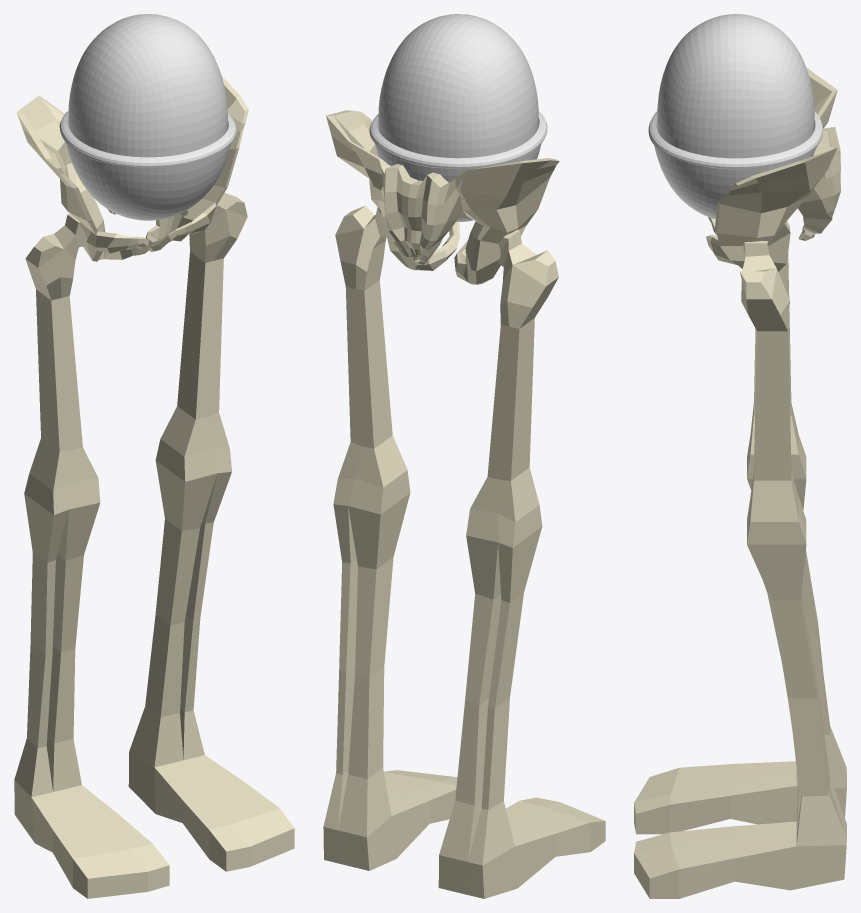
The model's file is skeleton alien separated.fbx.
3 views of the same model, side by side, from view 1: azimuth 30°, elevation 25°; view 2: azimuth 150°, elevation 25°; view 3: azimuth 270°, elevation 25° (orthographic).
Visible parts, largest first — view 1: LEG LEFT, LEG RIGHT, Cube, Cube.001, PELVIS; view 2: LEG RIGHT, LEG LEFT, Cube, PELVIS, Cube.001; view 3: LEG LEFT, Cube, LEG RIGHT, PELVIS, Cube.001.
Part boxes in pixels (x1,y1,x2,y2): LEG LEFT: (128,192,294,871); LEG RIGHT: (14,213,169,898); Cube: (68,14,227,157); Cube.001: (59,111,236,220); PELVIS: (16,76,248,261); LEG RIGHT: (438,229,605,898); LEG LEFT: (323,206,457,870); Cube: (378,14,538,158); PELVIS: (326,110,559,284); Cube.001: (369,111,547,221); LEG LEFT: (634,240,846,898); Cube: (657,14,814,158); LEG RIGHT: (634,220,846,834); PELVIS: (706,67,840,271); Cube.001: (648,111,823,219).
Size of the model in its own units: 430 by 1612 by 376.
